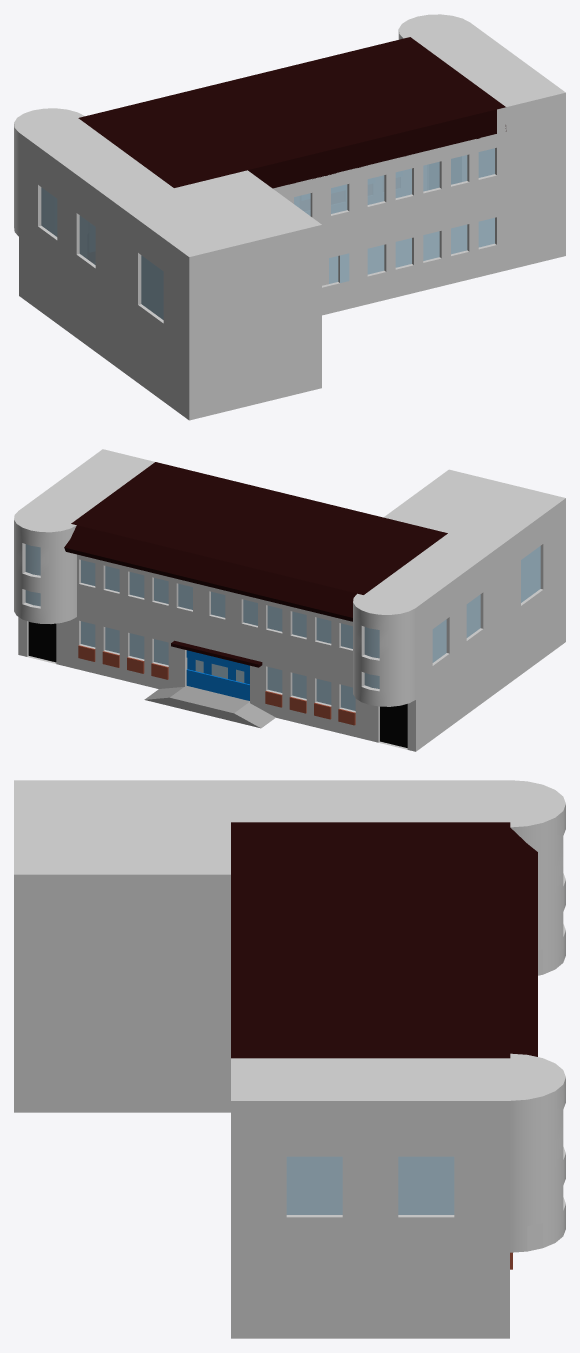
The model's file is bjfz4.fbx.
The picture shows the model from 3 angles, top to bottom: view 1: azimuth 30°, elevation 25°; view 2: azimuth 150°, elevation 25°; view 3: azimuth 270°, elevation 25°; orthographic projection. The views are drawn at different scales.
Visible parts, largest first — view 1: pCube1, pCube3, pPrism1, pCylinder2, pCylinder3; view 2: pCube1, pPrism1, pCube3, pCylinder2, pCylinder3, pCube2, pCube4; view 3: pCube1, pCube3, pPrism1, pCylinder3, pCylinder2.
Part boxes in pixels (<box>): pCube1: <box>19,22,565,363</box>; pCube3: <box>112,170,321,420</box>; pPrism1: <box>78,37,506,188</box>; pCylinder2: <box>14,108,89,236</box>; pCylinder3: <box>398,14,469,45</box>; pCube1: <box>18,449,499,751</box>; pPrism1: <box>64,462,447,621</box>; pCube3: <box>383,469,565,691</box>; pCylinder2: <box>353,586,419,706</box>; pCylinder3: <box>14,511,80,623</box>; pCube2: <box>144,685,275,728</box>; pCube4: <box>171,640,262,667</box>; pCube1: <box>231,780,512,1338</box>; pCube3: <box>14,780,237,1112</box>; pPrism1: <box>231,822,537,1058</box>; pCylinder3: <box>473,1053,565,1252</box>; pCylinder2: <box>454,780,565,975</box>.
Size of the model in its own units: 27.17 by 9.4 by 19.76.
